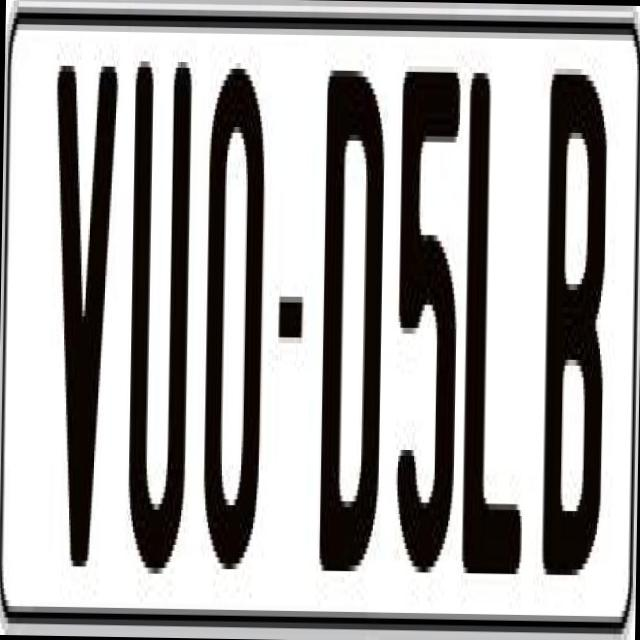0: (198, 51, 264, 564)
5: (389, 71, 459, 596)
B: (541, 74, 611, 581)
D: (314, 70, 384, 583)
L: (456, 66, 534, 592)
U: (122, 54, 194, 586)
V: (46, 53, 120, 556)
